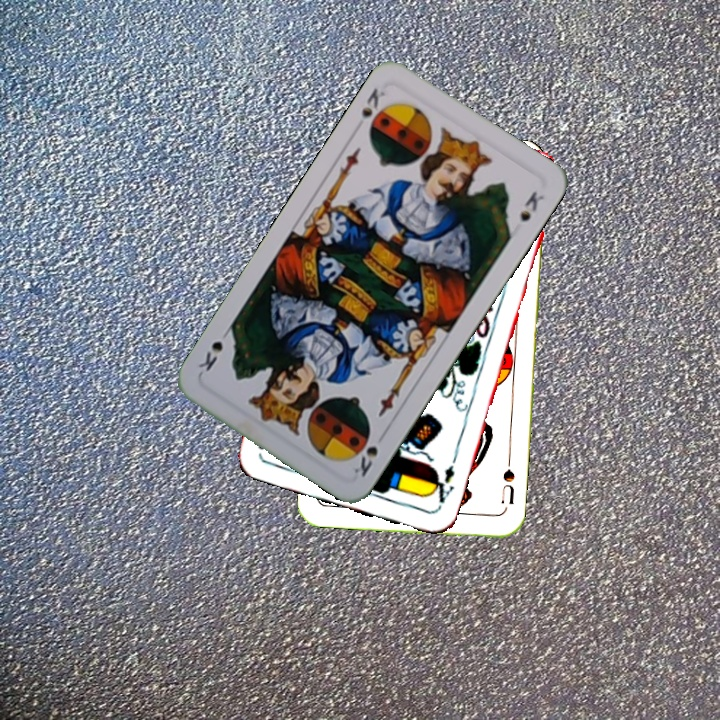EA: (426, 453, 459, 511)
SK: (349, 442, 381, 480), (357, 83, 388, 120)
SU: (497, 465, 518, 507)
